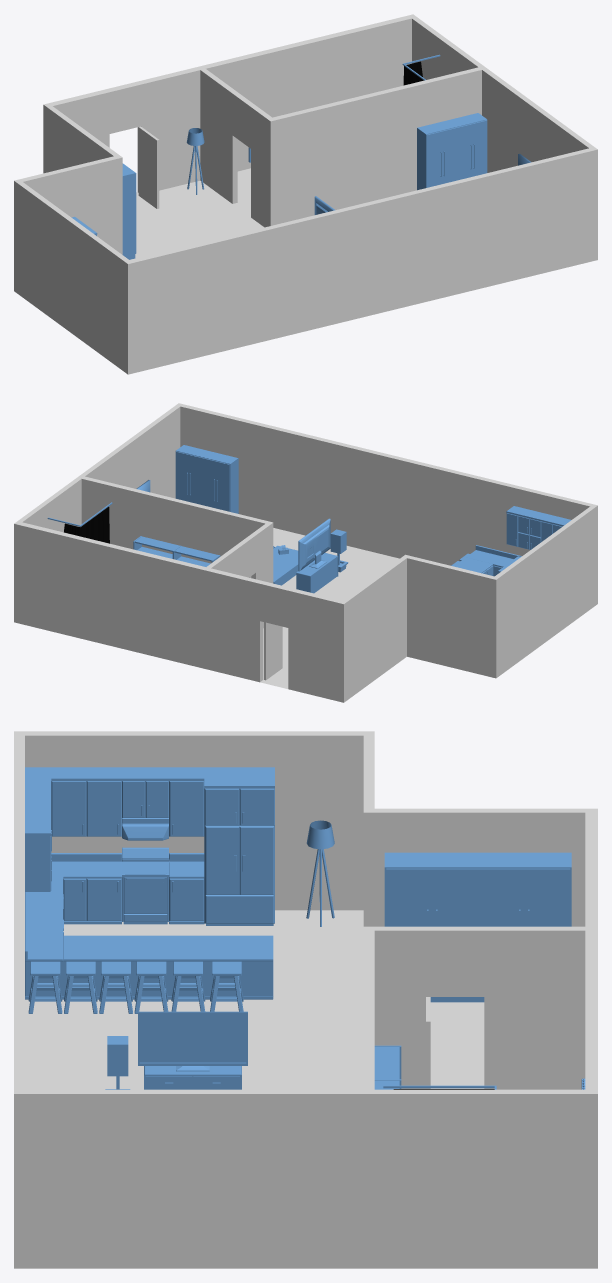
The model's file is room4.glb.
3 renders of one model, top to bottom at view 1: azimuth 30°, elevation 25°; view 2: azimuth 150°, elevation 25°; view 3: azimuth 270°, elevation 25°, orthographic. The views are drawn at different scales.
Parts seen in each view (by area): view 1: ROOM FINISHED 4; view 2: ROOM FINISHED 4; view 3: ROOM FINISHED 4.
Boxes of the visible parts, x1,y1,x2,y2 form: ROOM FINISHED 4: (14,14,597,374); ROOM FINISHED 4: (14,403,597,702); ROOM FINISHED 4: (14,731,597,1268).
Size of the model in its own units: 11.11 by 2.72 by 7.57.
